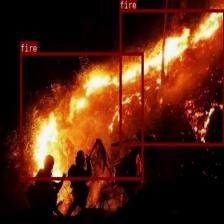fire: (20, 52, 143, 179), (119, 9, 224, 145)
